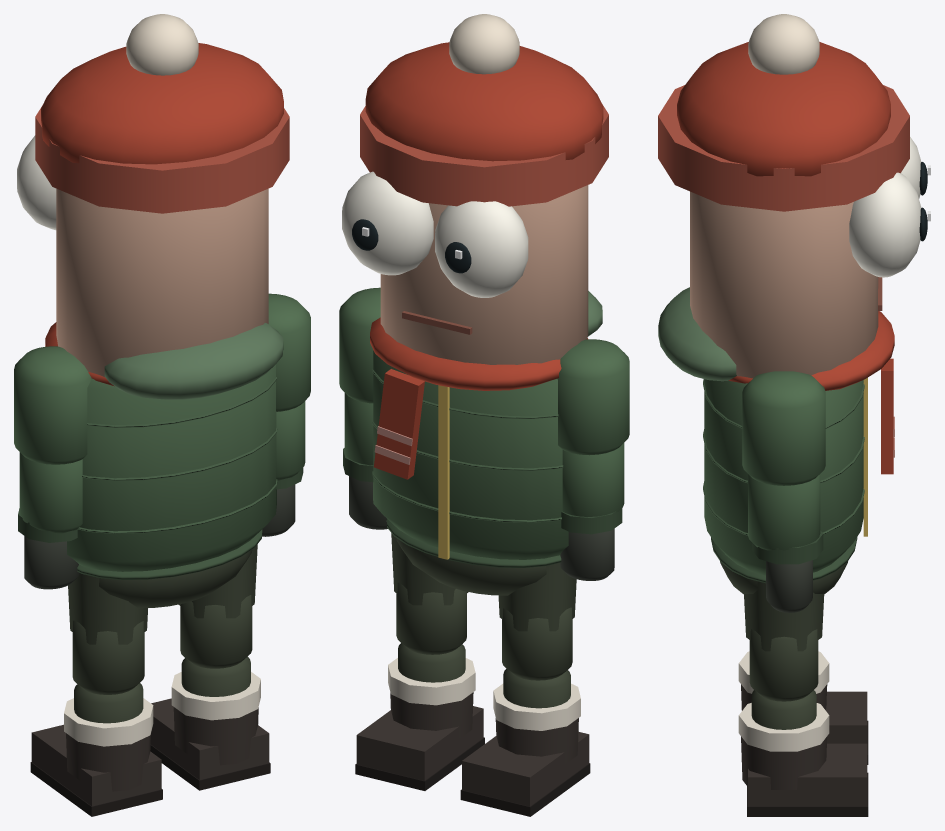
The model's file is spectator_winter_3.glb.
The picture shows the model from 3 angles, left to right: view 1: azimuth 30°, elevation 25°; view 2: azimuth 150°, elevation 25°; view 3: azimuth 270°, elevation 25°; orthographic projection. The views are drawn at different scales.
Parts seen in each view (by area): view 1: Head, RallySpectator, LeftShin, RightShin, LeftArm, LeftLeg, LeftForearm, RightLeg, RightArm, RightForearm; view 2: Head, RallySpectator, LeftShin, RightShin, LeftArm, LeftForearm, LeftLeg, RightLeg, RightArm, RightForearm; view 3: Head, RallySpectator, RightShin, RightArm, RightForearm, RightLeg, LeftShin.
Boxes of the visible parts, x1,y1,x2,y2 form: Head: (17,14,289,376); RallySpectator: (45,322,283,608); LeftShin: (30,683,162,816); RightShin: (150,656,270,790); LeftArm: (14,346,91,464); LeftLeg: (68,573,147,694); LeftForearm: (18,452,82,589); RightLeg: (178,544,257,668); RightArm: (268,293,310,411); RightForearm: (262,401,305,536); Head: (342,14,608,364); RallySpectator: (370,291,602,595); LeftShin: (460,669,590,816); RightShin: (355,643,484,790); LeftArm: (557,339,629,455); LeftForearm: (560,443,624,580); LeftLeg: (498,563,576,680); RightLeg: (391,533,468,654); RightArm: (339,287,380,403); RightForearm: (343,393,387,529); Head: (658,14,930,378); RallySpectator: (658,287,894,594); RightShin: (738,690,868,816); RightArm: (742,371,825,485); RightForearm: (748,474,823,612); RightLeg: (744,581,824,701); LeftShin: (738,651,868,764).
Bounding box in the file's own units: 0.9 × 2.3 × 0.7535.
